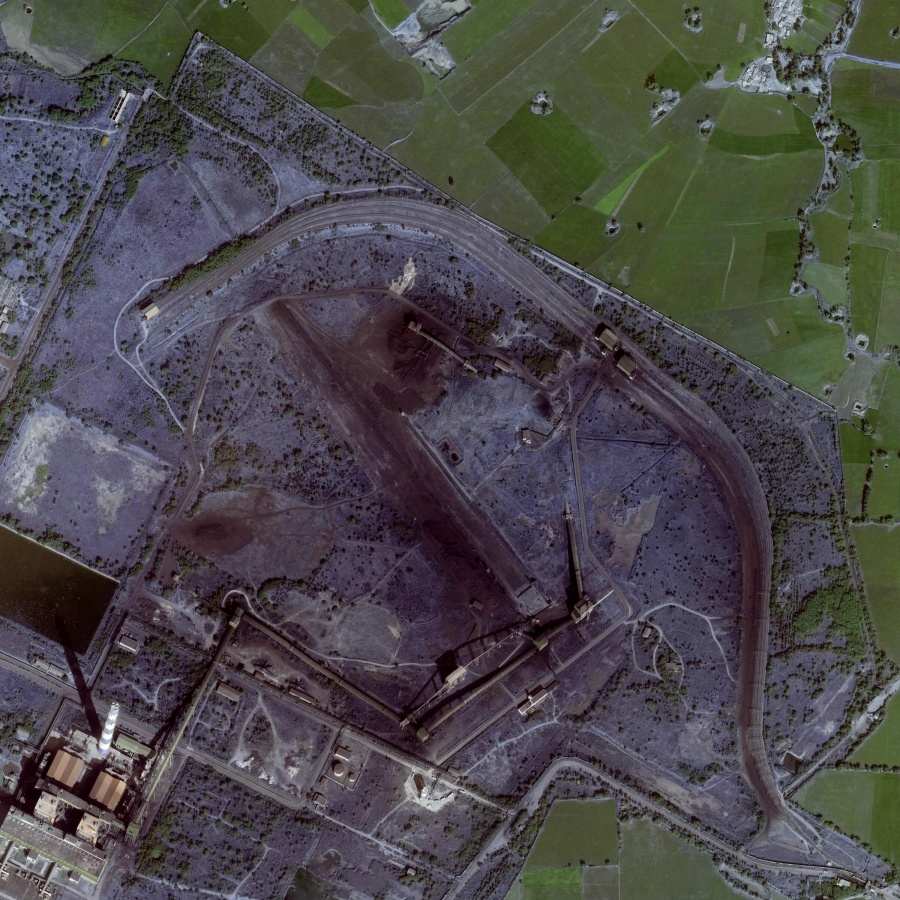PowerPlant: (230, 266, 556, 662)
